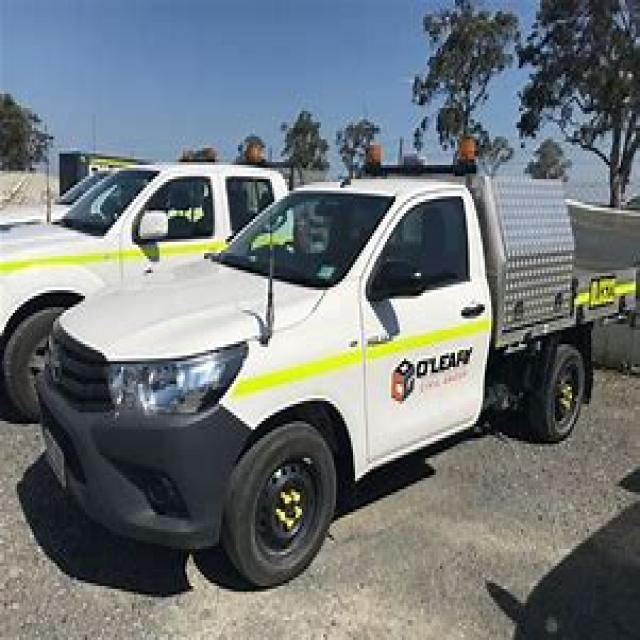light_vehicle: (45, 151, 638, 589)
